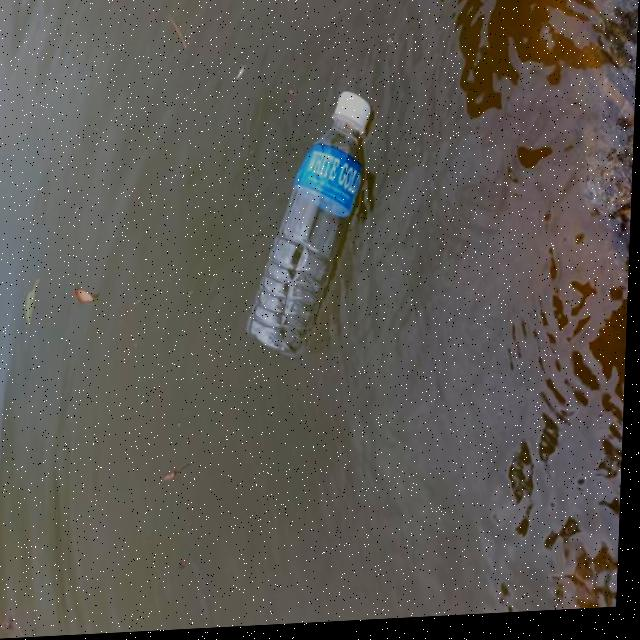waterbottle: (244, 72, 387, 367)
